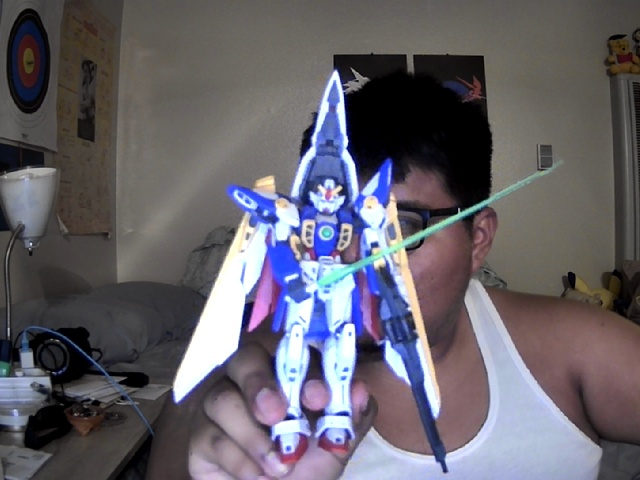Wing-01: (172, 70, 564, 474)
